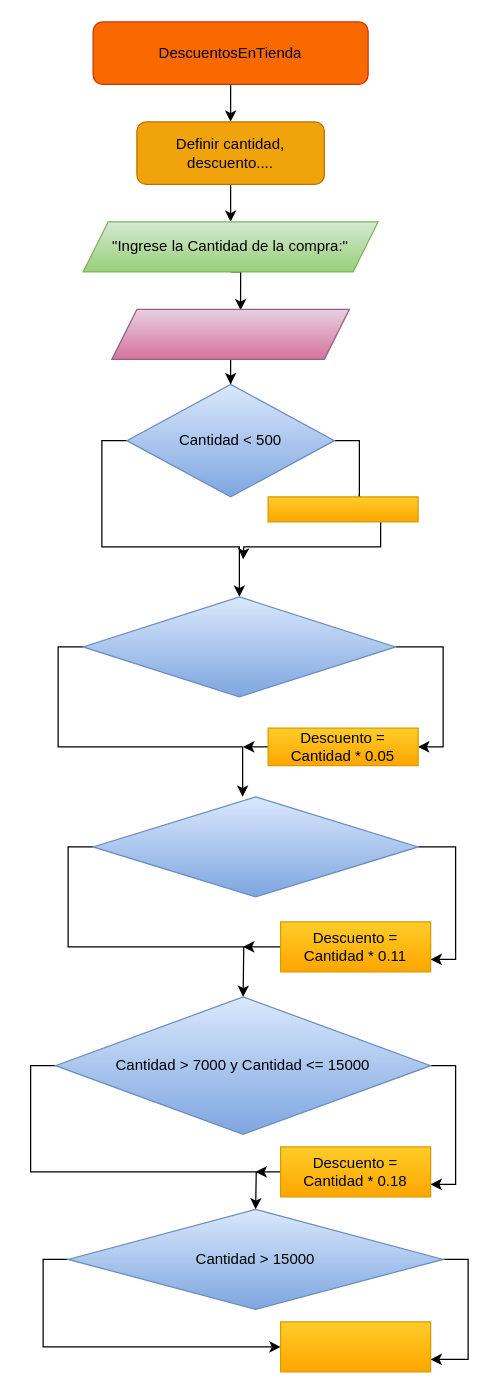
Some shapes in this 500 by 1394 pixel diagram are drawn without their labels. The shapes that lost their labels are listed below. From the top down, each one's centre as x and y in pixels, then its label:
the point at 230,333: Cantidad
the point at 342,509: Descuento = 0
the point at 239,646: Cantidad >= 500 y Cantidad <= 1000
the point at 255,846: Cantidad > 1000 y Cantidad <= 7000
the point at 355,1346: Descuento = Cantidad * 0.25
